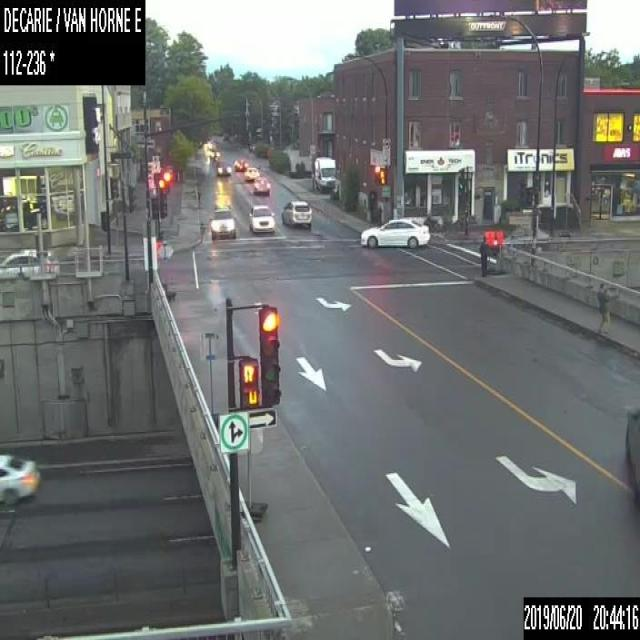construction: (240, 427, 266, 522), (198, 330, 222, 424), (156, 238, 174, 299), (493, 229, 503, 273), (483, 228, 492, 272)
pedestrian: (595, 283, 609, 333), (478, 235, 487, 277)
vehicle: (0, 451, 41, 508), (359, 216, 430, 248), (0, 247, 60, 273), (622, 408, 639, 496), (209, 206, 236, 239), (247, 202, 274, 234), (312, 155, 335, 192), (282, 198, 310, 226), (253, 176, 270, 194), (216, 157, 231, 176), (243, 166, 258, 182), (232, 157, 247, 171)
